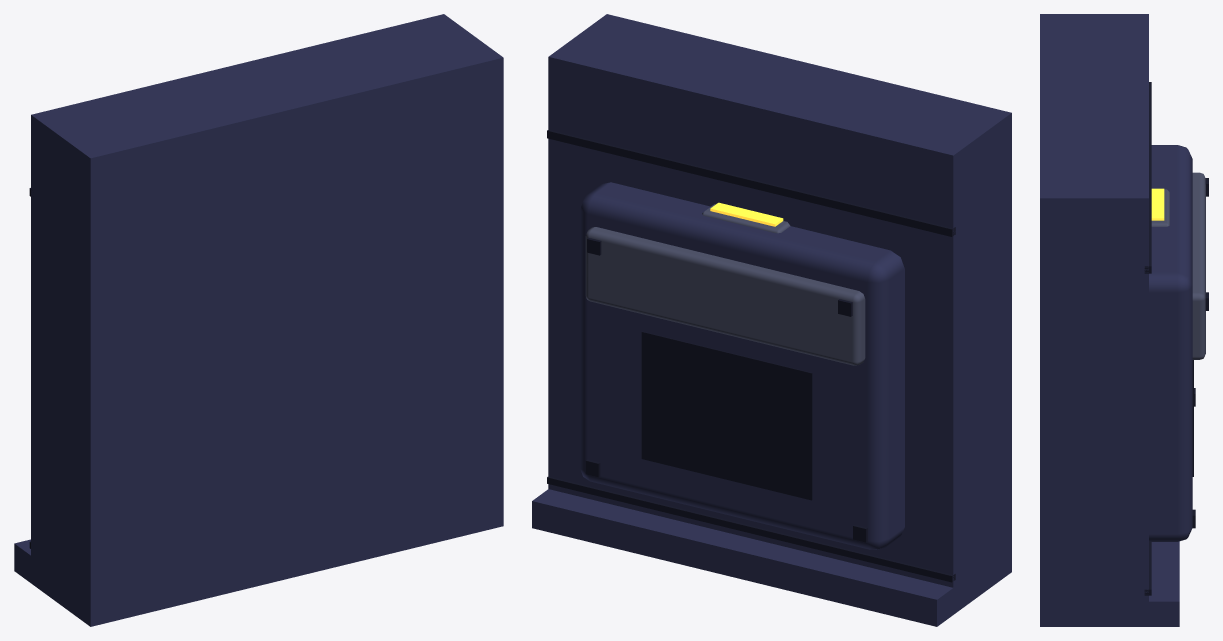
File: hull.upper.straight.l1.000.s2.glb
3 views of the same model, side by side, from view 1: azimuth 30°, elevation 25°; view 2: azimuth 150°, elevation 25°; view 3: azimuth 270°, elevation 25° (orthographic). The views are drawn at different scales.
Visible parts, largest first — view 1: hull.upper.straight.l1.000.s2; view 2: hull.upper.straight.l1.000.s2; view 3: hull.upper.straight.l1.000.s2.
Part boxes in pixels (left/top/right/bottom): hull.upper.straight.l1.000.s2: left=14, top=14, right=503, bottom=626; hull.upper.straight.l1.000.s2: left=532, top=14, right=1011, bottom=626; hull.upper.straight.l1.000.s2: left=1040, top=14, right=1208, bottom=626.
Bounding box in the file's own units: 1 × 1.08 × 0.387.
